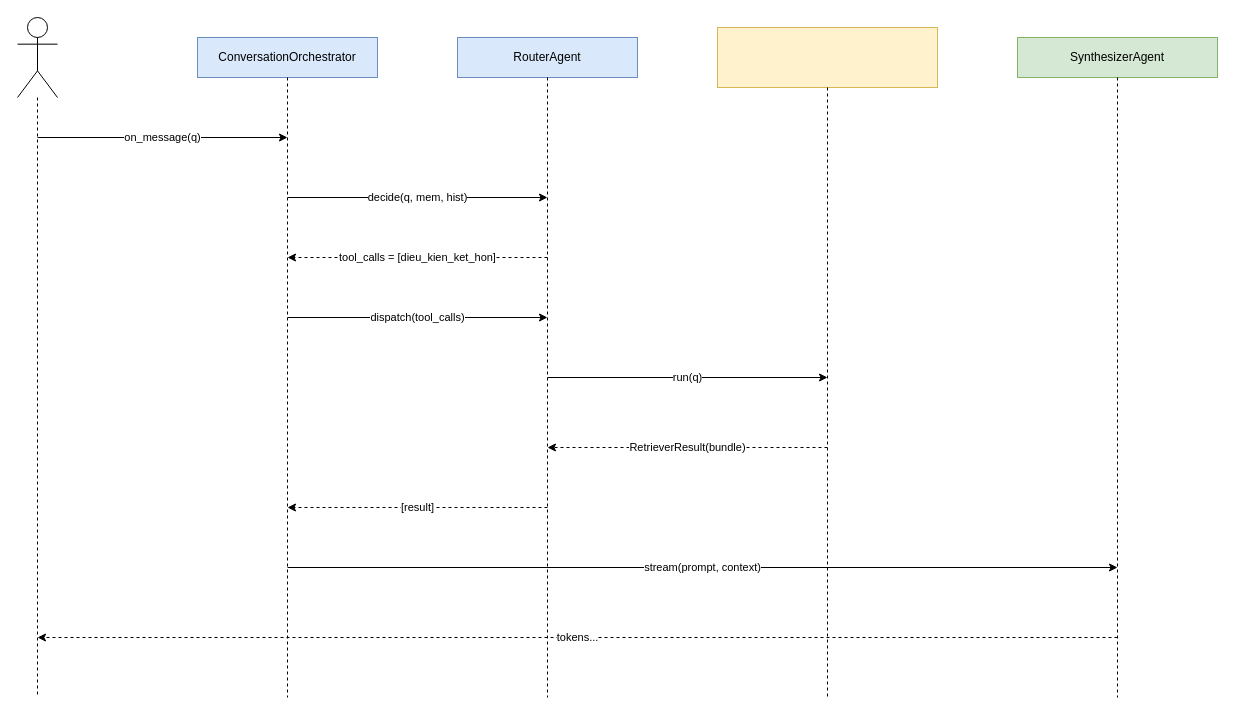
The diagram is 1235 pixels wide and 716 high, and some of its shapes have lost their labels. Here are the shapes that lost their labels. From the top down, the centre of each, then its label:
At (37,57): "User".
At (827,57): "RetrieverAgent (dieu_kien_ket_hon)".
